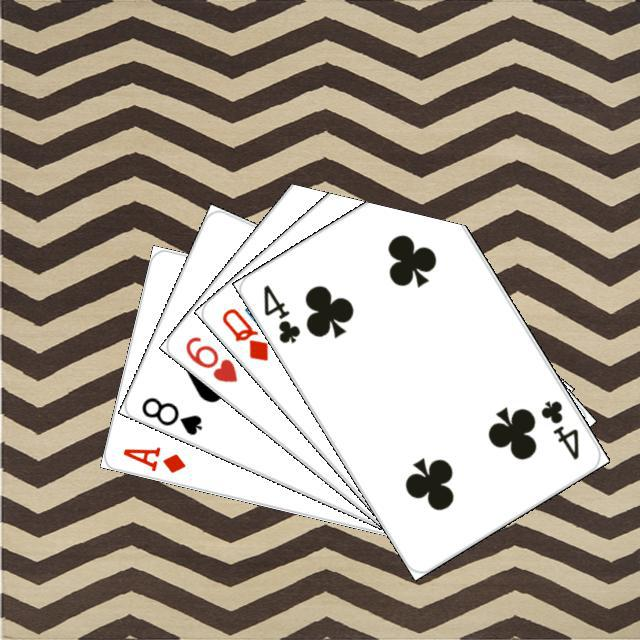4c: (535, 395, 581, 462), (258, 279, 303, 346)
6h: (180, 331, 240, 385)
8s: (136, 392, 204, 438)
Ad: (117, 441, 188, 475)
Qd: (216, 303, 271, 363)
